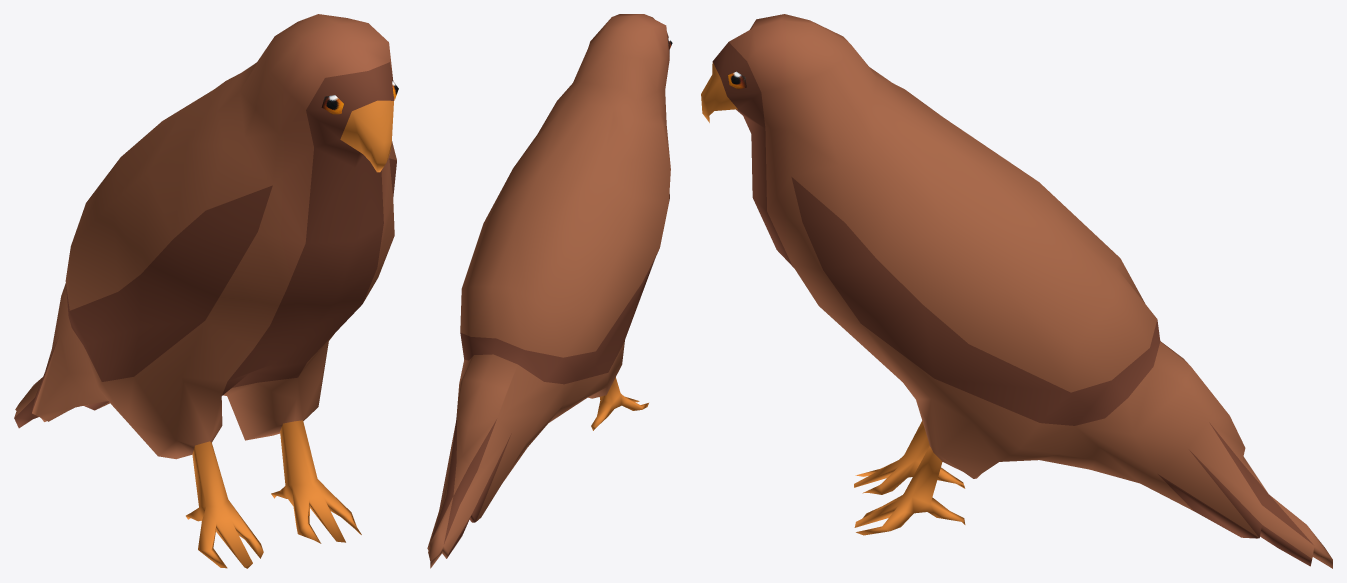
3 views of the same model, side by side, from view 1: azimuth 30°, elevation 25°; view 2: azimuth 150°, elevation 25°; view 3: azimuth 270°, elevation 25° (orthographic). The views are drawn at different scales.
Visible parts, largest first — view 1: Hawk; view 2: Hawk; view 3: Hawk.
Part boxes in pixels (bbox=[...]): Hawk: bbox=[14, 14, 398, 568]; Hawk: bbox=[427, 14, 672, 568]; Hawk: bbox=[701, 14, 1332, 568].
Size of what is drawn, in the model's own units: 0.2596 by 0.6607 by 0.6901.
Materials: 1 (1 with a texture image).
